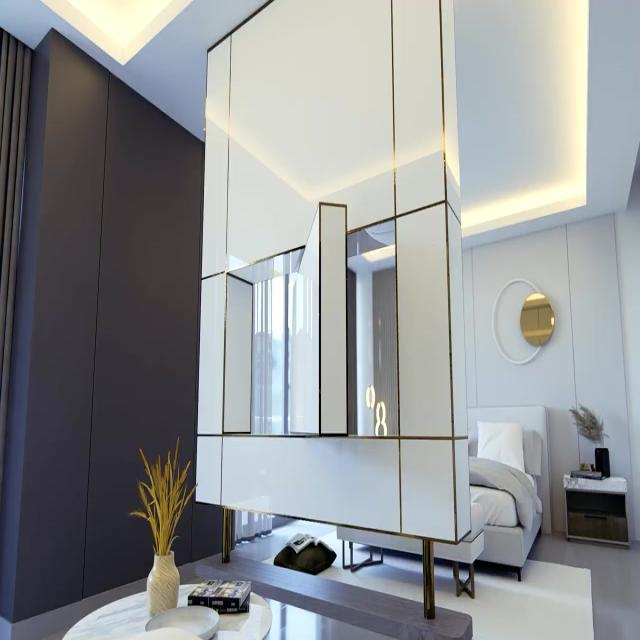obstacle: (467, 410, 544, 581)
